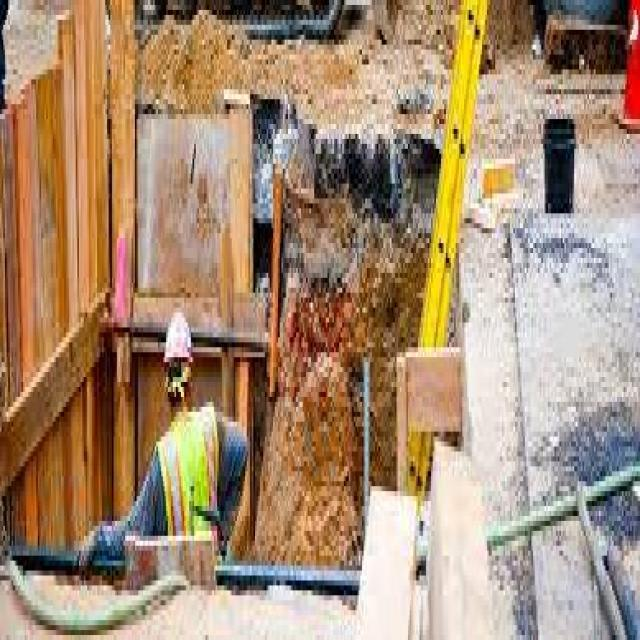reflective_jacket: (146, 401, 231, 580)
safety_helmet: (156, 288, 200, 397)
